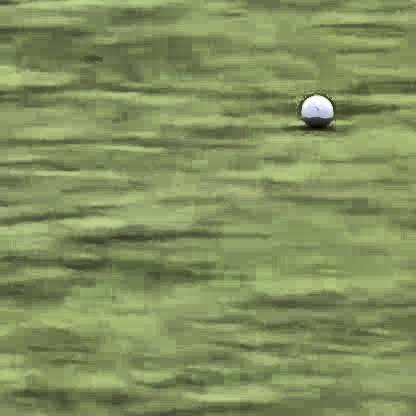golfball: (296, 90, 332, 126)
